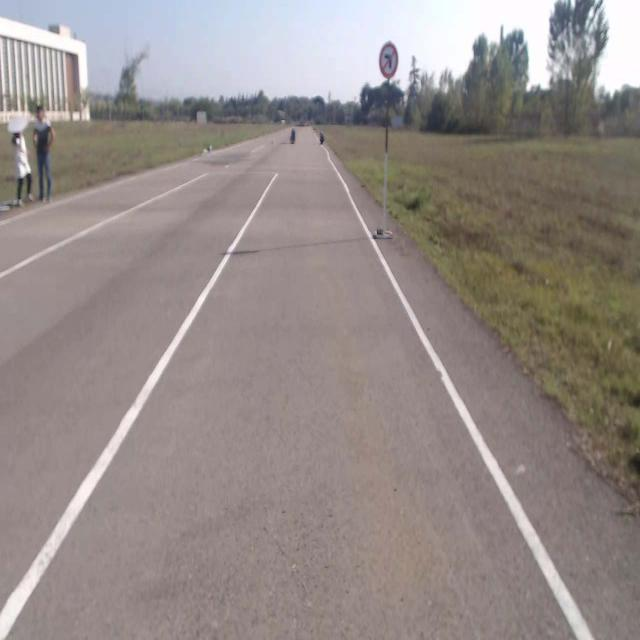soladonulmez: (379, 43, 398, 77)
